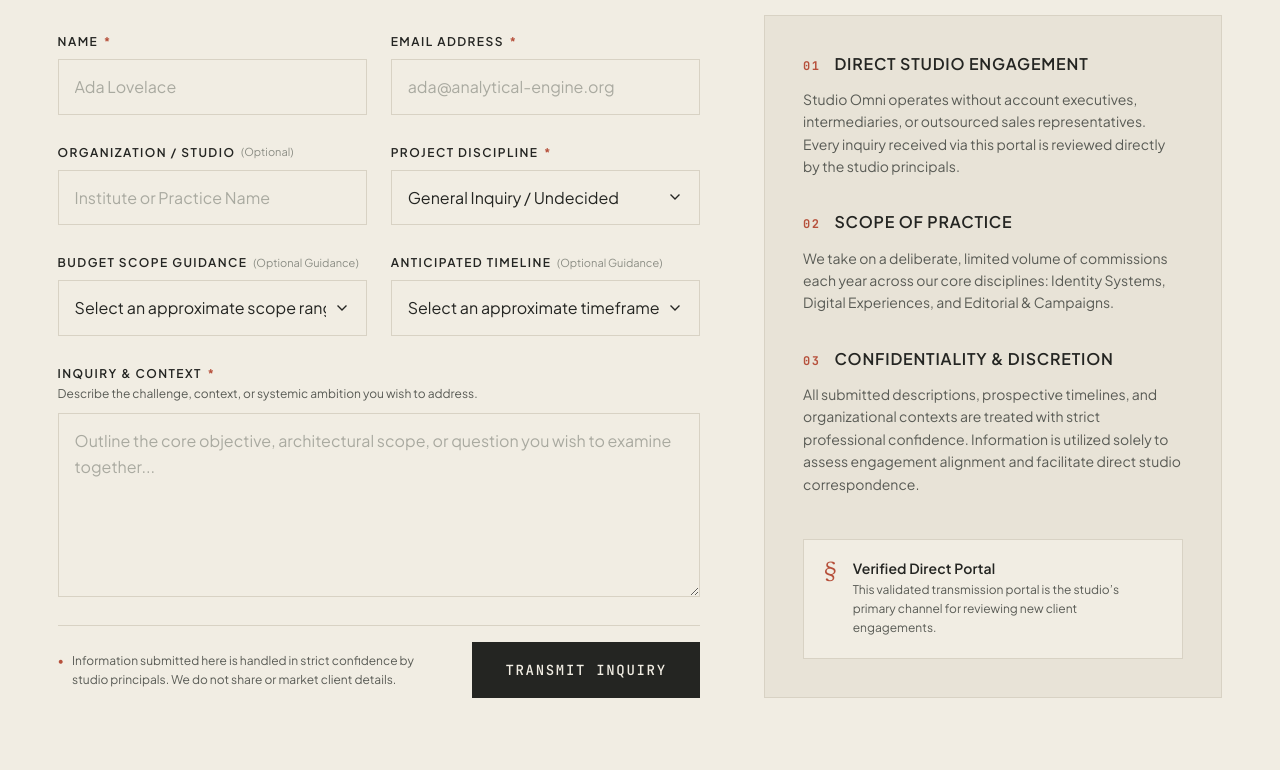
Test: Studio Omni Contact System & Inquiry Protocol › Form Validation & Error States › blocks submission and surfaces clear error messages when required fields are empty
The image size is (1280, 770).
(page scrolled)
Click the button "Transmit Inquiry".
click(586, 670)  # box [472,642,700,698]
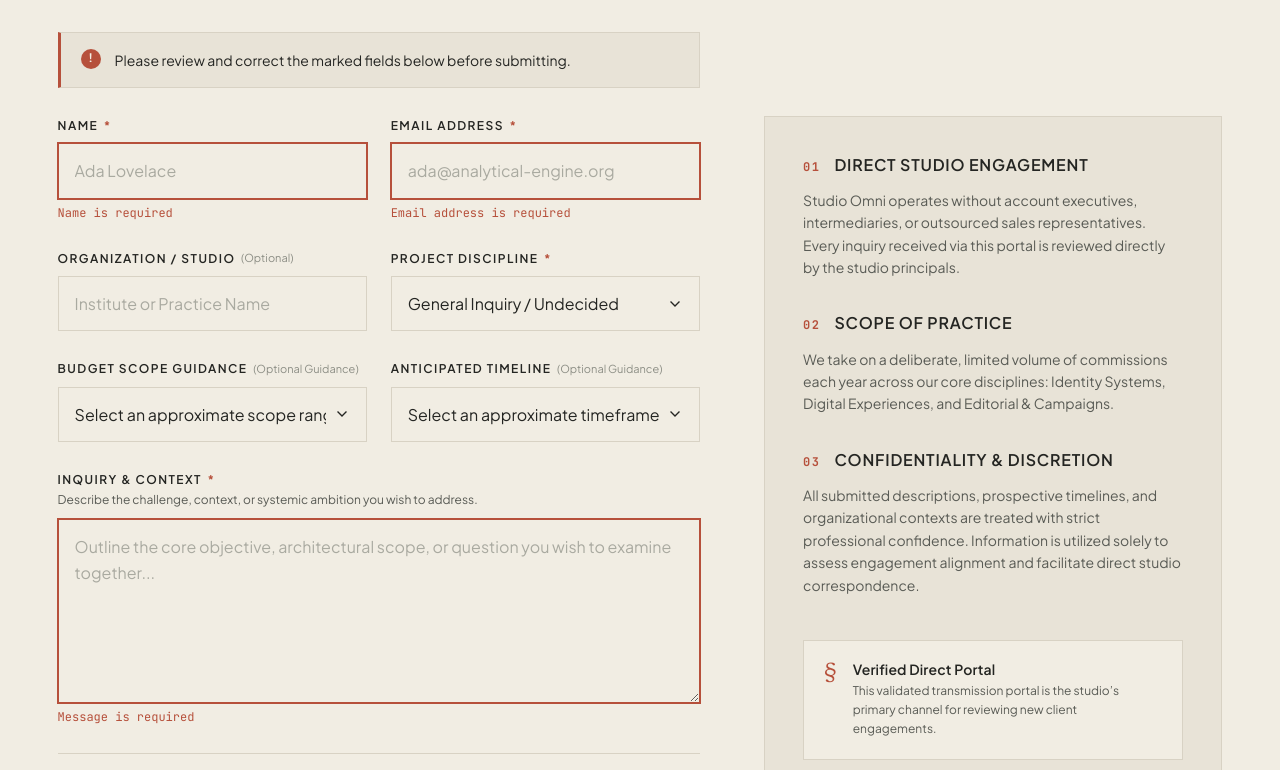
Now the text "Name is required" is shown, box [58,205,173,221]
Now the text "Email address is required" is shown, box [391,205,571,221]
Now the text "Message is required" is shown, box [58,709,194,725]
